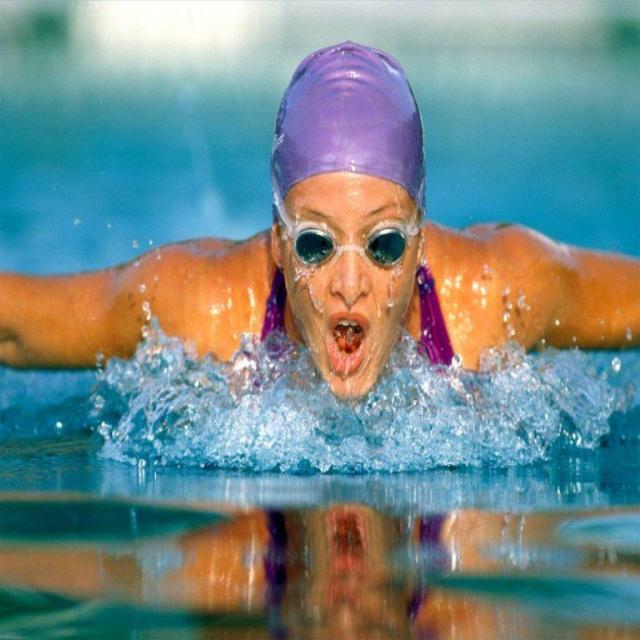Face: (288, 167, 418, 405)
